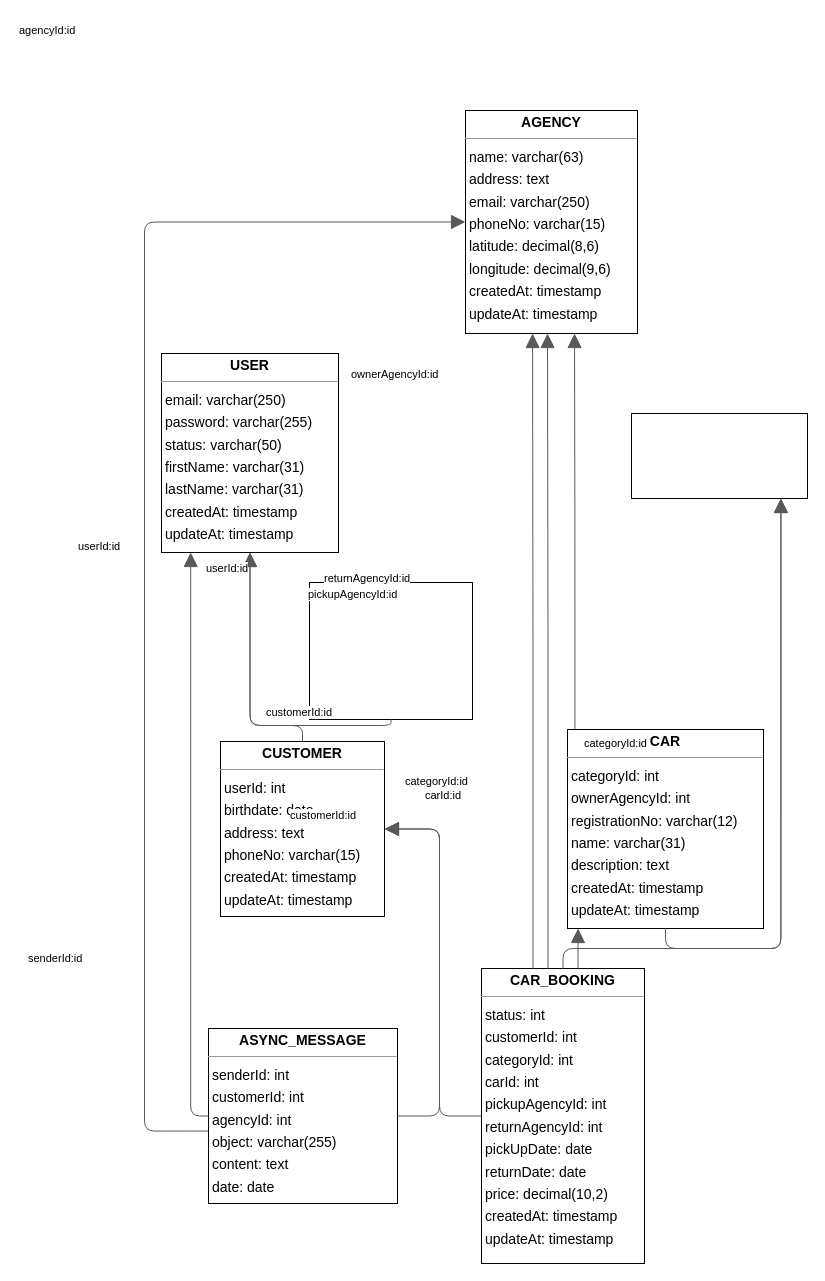
Some shapes in this 825 by 1281 pixel diagram are drawn without their labels. Each missing label, with the centre of its shape:
CAR_CATEGORY acrissCode: varchar(4) name: varchar(255): point 719,455
MANAGER userId: int agencyId: int createdAt: timestamp updateAt: timestamp: point 390,651
